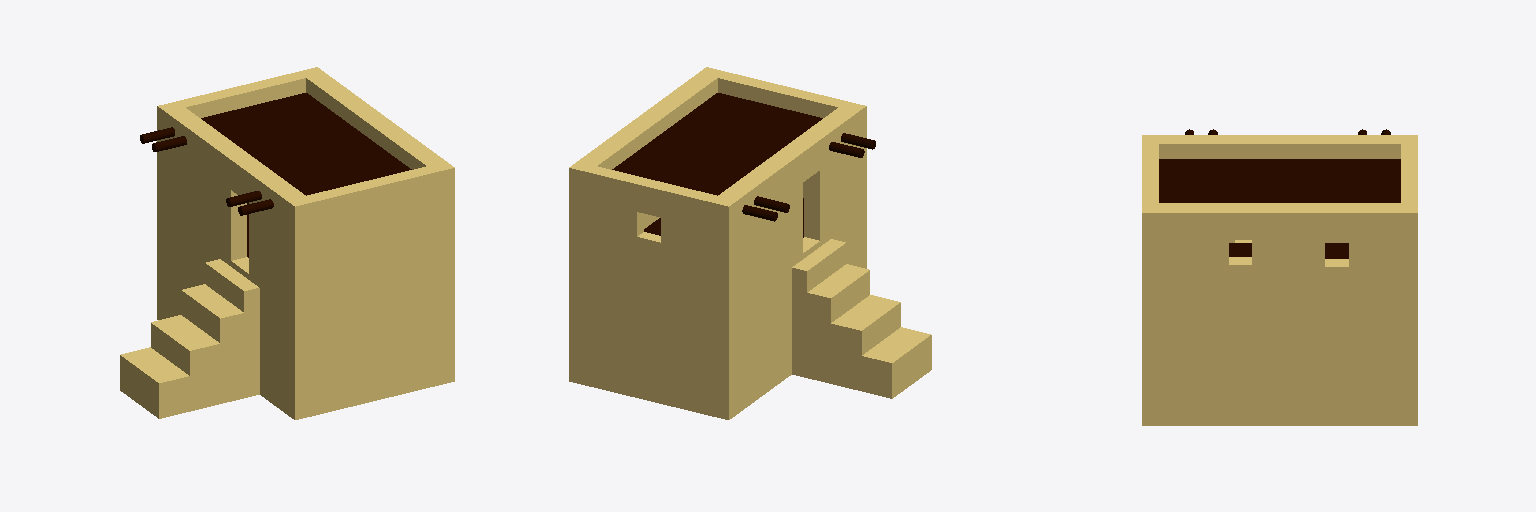
File: ancient_house.obj
The picture shows the model from 3 angles: view 1: azimuth 30°, elevation 25°; view 2: azimuth 150°, elevation 25°; view 3: azimuth 270°, elevation 25°; orthographic projection.
Parts seen in each view (by area): view 1: shoe_box.002; view 2: shoe_box.002; view 3: shoe_box.002.
Boxes of the visible parts, x1=… form: shoe_box.002: x1=120, y1=67, x2=454, y2=419; shoe_box.002: x1=569, y1=67, x2=931, y2=419; shoe_box.002: x1=1142, y1=129, x2=1417, y2=425.
Bounding box in the file's own units: 7.65 × 6 × 7.